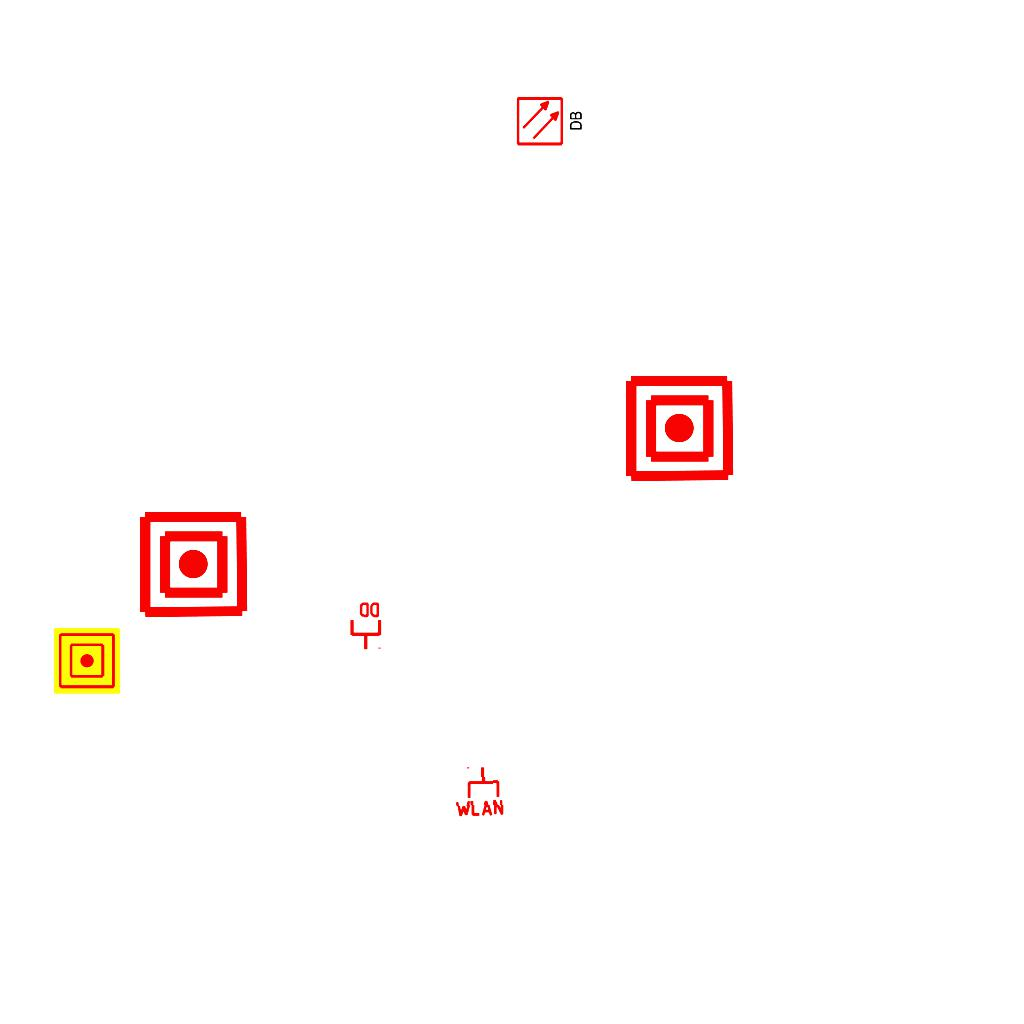DB_Melder_in_Doppelboden_mit_Revisionsoeffnung_mind_40_x_40_cm: (513, 92, 587, 149)
Datenanschluss_zweifach: (348, 600, 382, 651)
NAM-Nichtautomatischer_Melder: (623, 372, 736, 485), (137, 508, 250, 621), (54, 628, 120, 694)
WLAN: (452, 764, 506, 818)
